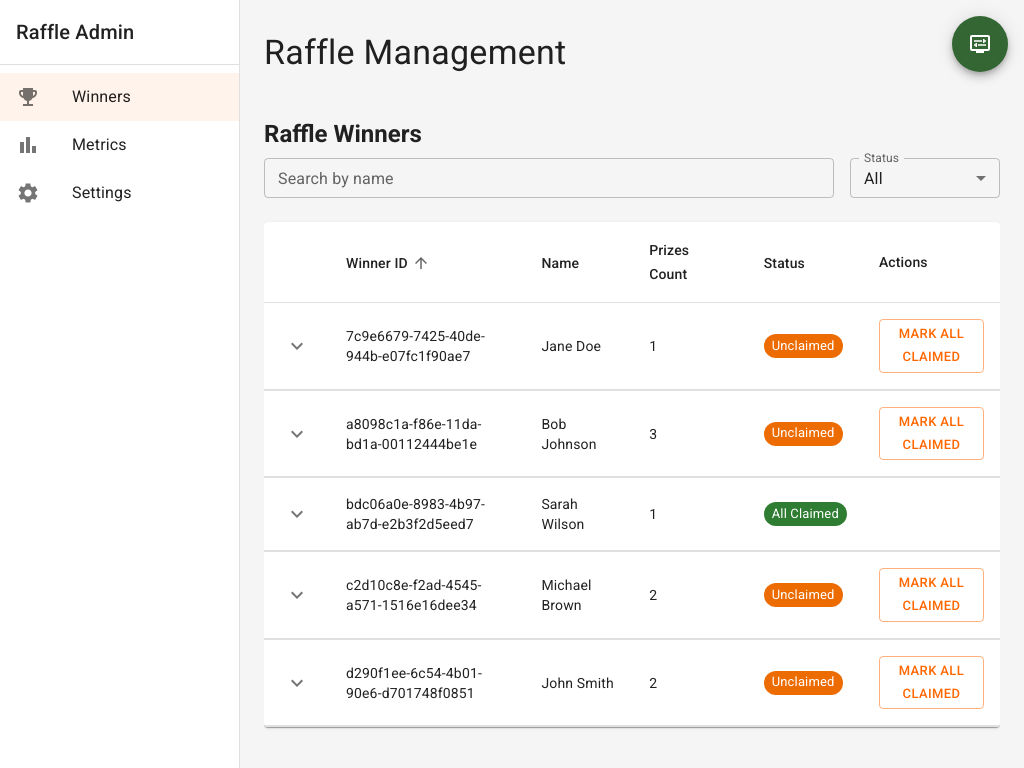
Test: Raffle Admin Page › should filter winners by claiming status
Note: Select "All Claimed" filter
Click the element with test id "status-filter" at (925, 178), box [850,158,1000,198]
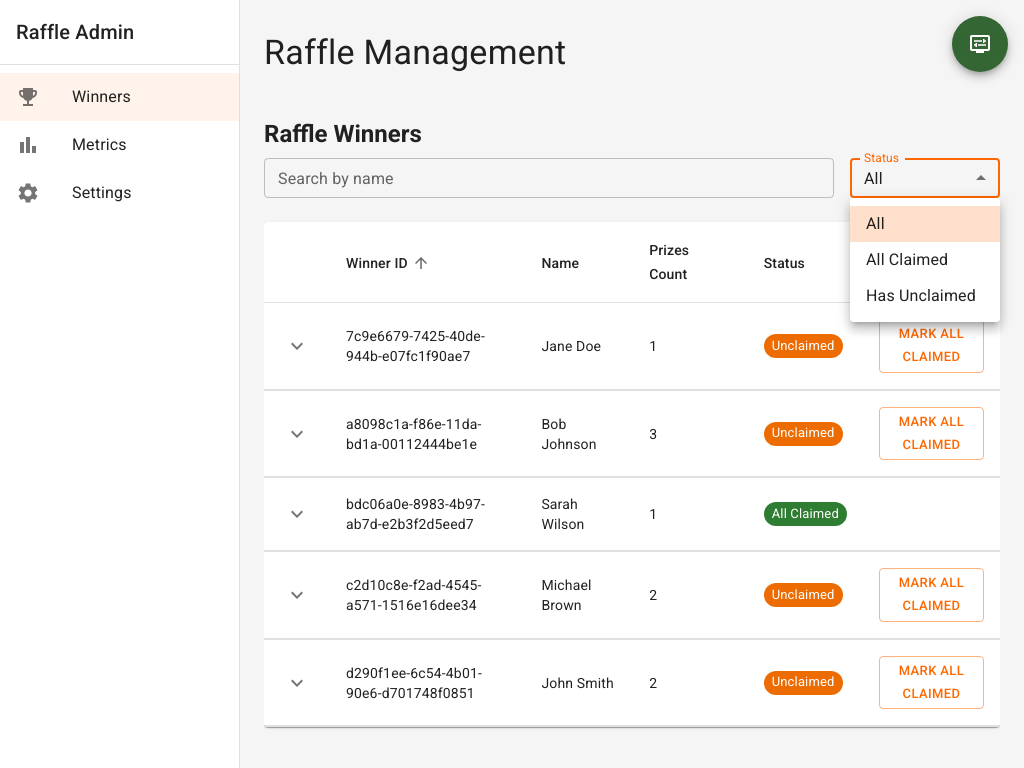
Click the option "All Claimed" at (907, 260), box [866,250,948,269]
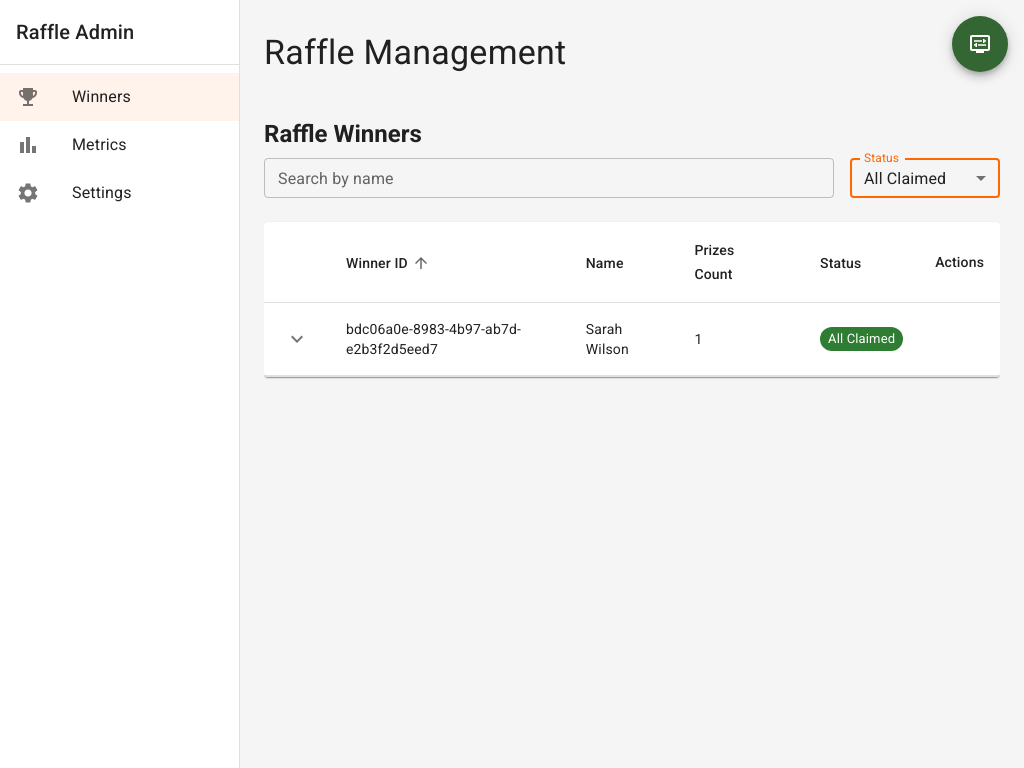
Expected: the text "All Claimed" is shown, [828,331,895,346]
Note: Select "Has Unclaimed" filter
Click the element with test id "status-filter" at (925, 178), box [850,158,1000,198]
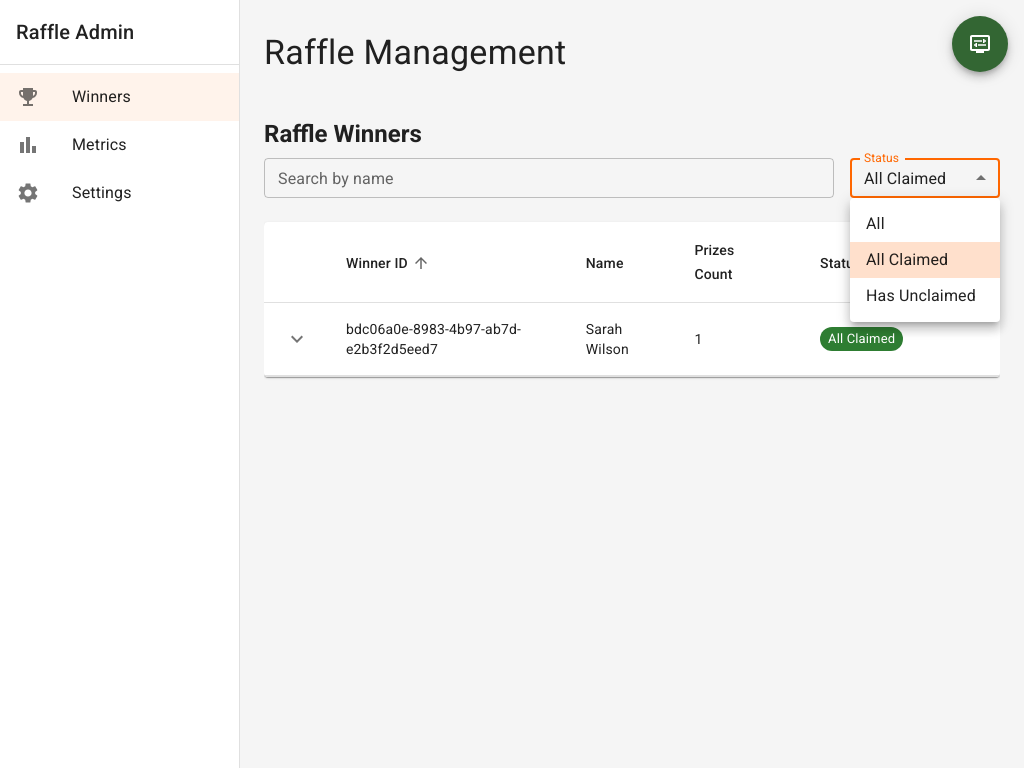
Click the option "Has Unclaimed" at (921, 296), box [866,286,976,305]
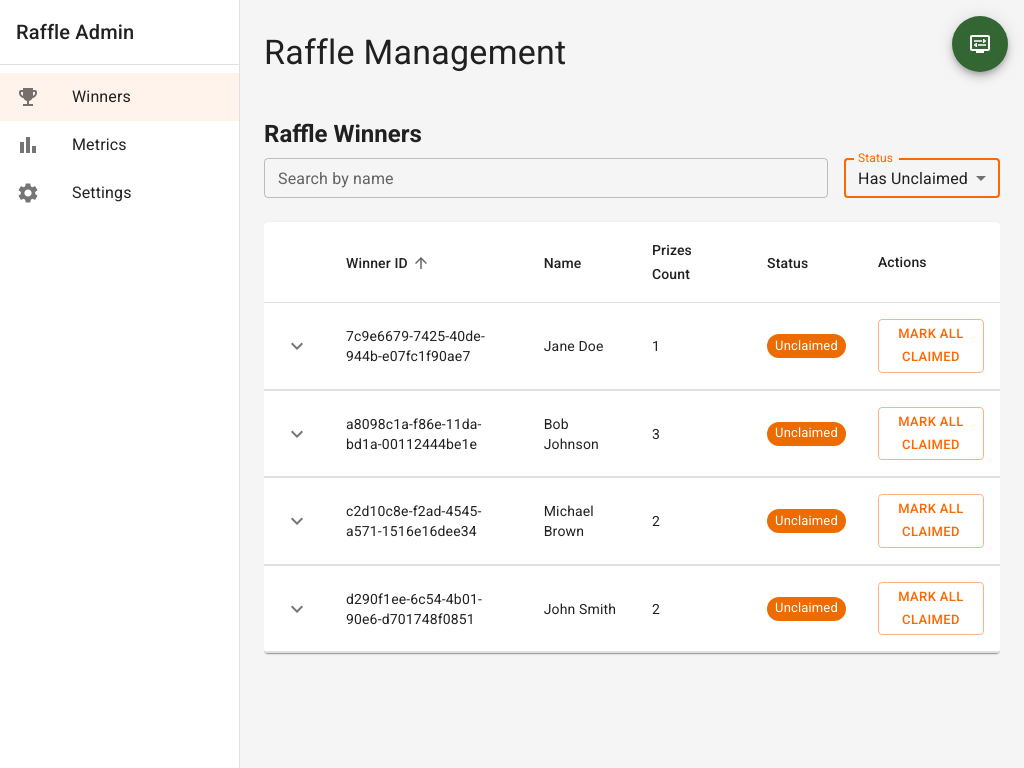
Expected: the text "Unclaimed" in the row of "7c9e6679-7425-40de-944b-e07fc1f90ae7" is shown, [775,338,838,353]
Expected: the text "Unclaimed" in the row of "a8098c1a-f86e-11da-bd1a-00112444be1e" is shown, [775,425,838,440]
Expected: the text "Unclaimed" in the row of "c2d10c8e-f2ad-4545-a571-1516e16dee34" is shown, [775,513,838,528]
Note: Return to "All" filter
Click the element with test id "status-filter" at (922, 178), box [844,158,1000,198]
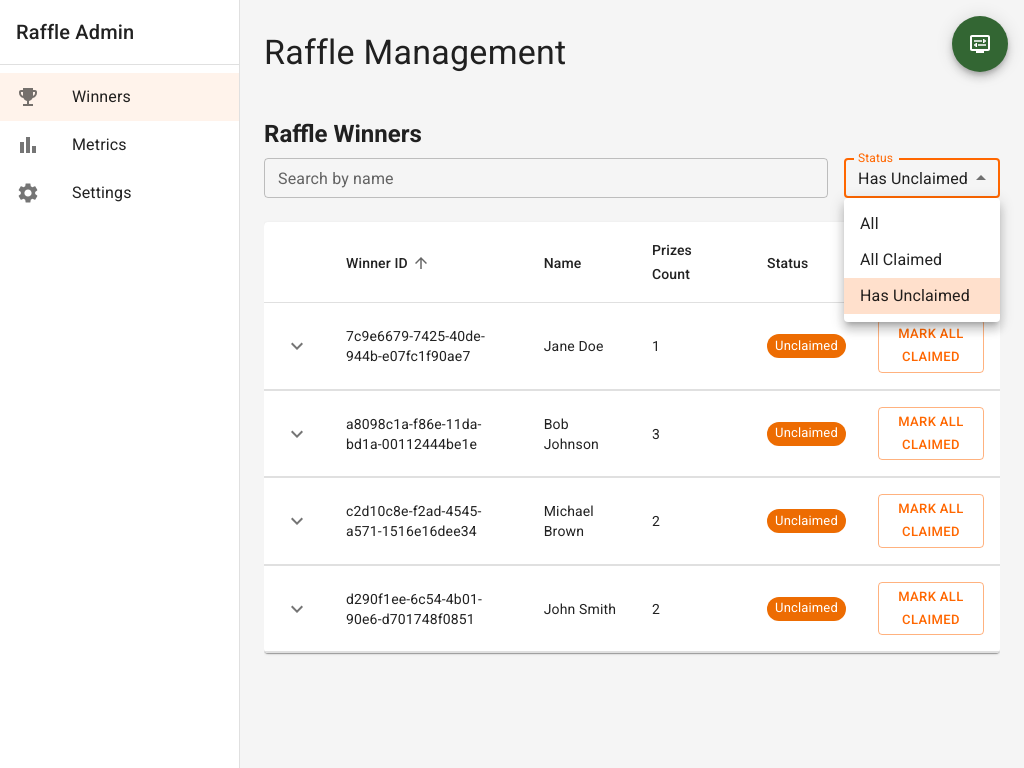
Click the option "All" at (870, 224), box [860,214,879,233]
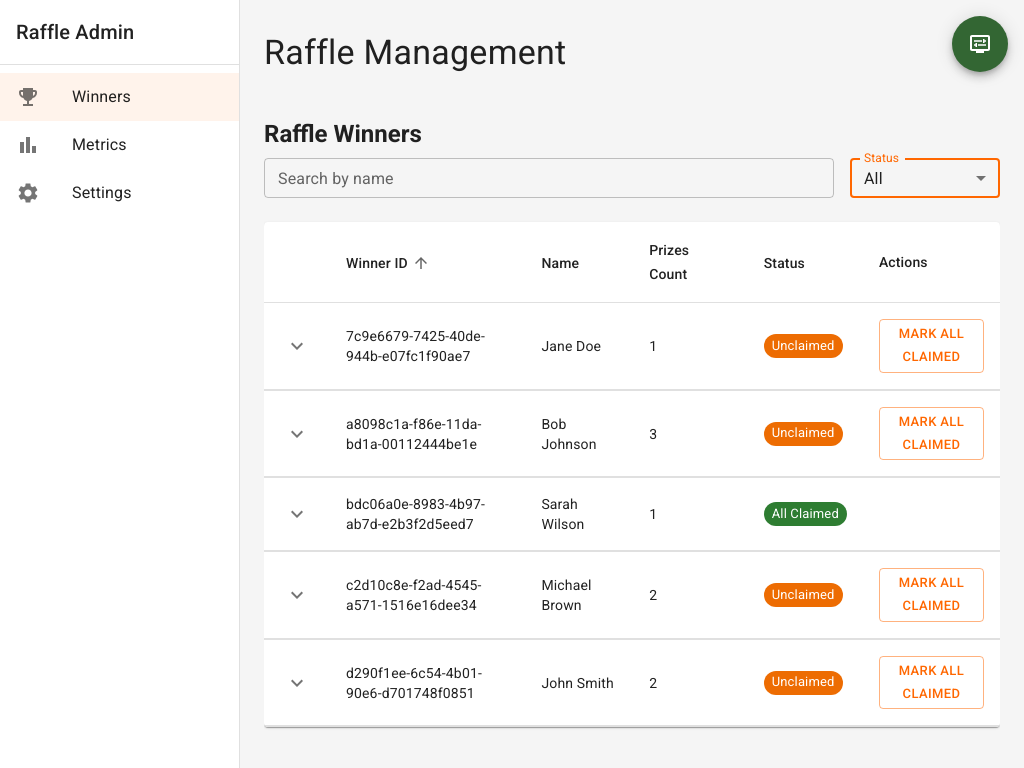
Expected: the number of rows with test id "primary-row" is 5, [264,303,1000,389]; [264,390,1000,477]; [264,478,1000,551]; [264,552,1000,638]; [264,639,1000,726]
